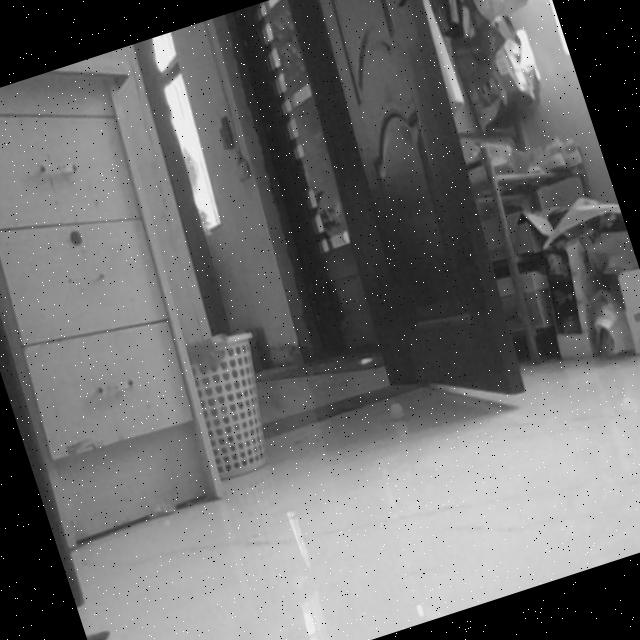ping-pong-ball: (388, 401, 407, 422)
